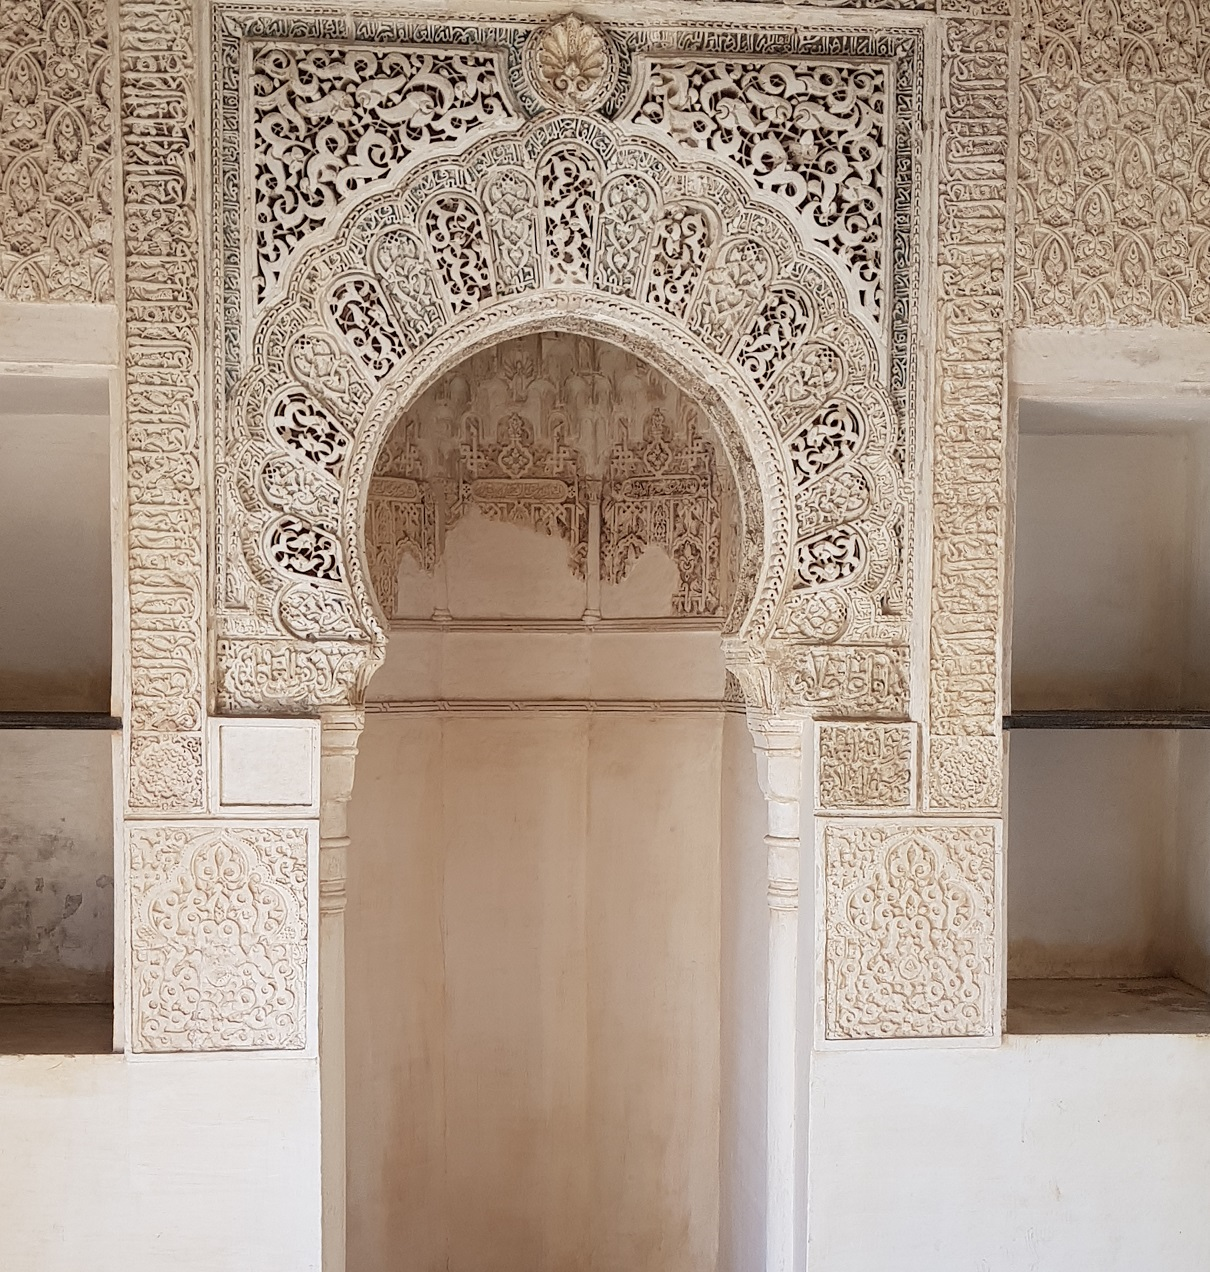arco-herradura: (316, 271, 804, 736)
